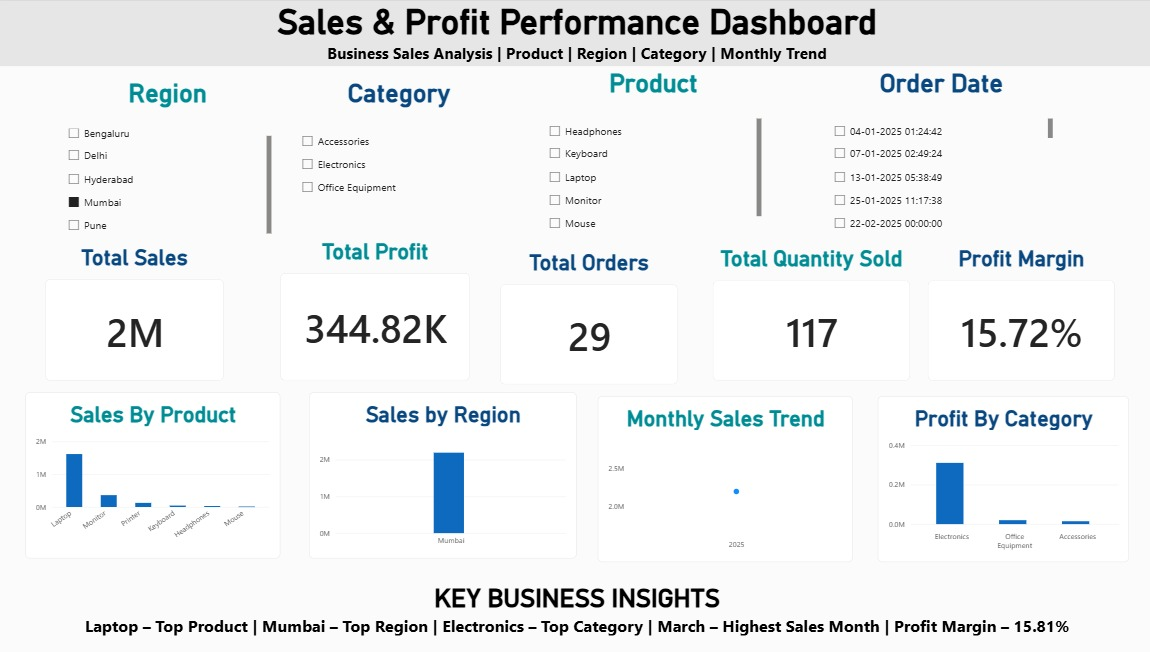

The dashboard page shown, as its layout file describes it:
{"tool":"powerbi","page":{"name":"Page 1","canvas":[1920,1080],"ordinal":0},"visuals":[{"type":"cardVisual","title":"Total Sales ","fields":{"Data":["Sum(sales_data.Sales)"]},"box":[84.4,401.4,294.3,224.4],"z":0},{"type":"cardVisual","title":"Total Profit ","fields":{"Data":["Sum(sales_data.Profit)"]},"box":[471.4,391.1,312.9,234.6],"z":1},{"type":"cardVisual","title":"Total Orders ","fields":{"Data":["CountNonNull(sales_data.Order_ID)"]},"box":[833.6,409.6,292.3,222.3],"z":2},{"type":"cardVisual","title":"Total Quantity Sold ","fields":{"Data":["Sum(sales_data.Quantity)"]},"box":[1183.5,403.4,325.2,222.3],"z":3},{"type":"cardVisual","title":"Profit Margin ","fields":{"Data":["sales_data.Profit Margin"]},"box":[1537.6,403.4,308.7,222.3],"z":4},{"type":"clusteredColumnChart","title":"Sales By Product ","fields":{"Category":["sales_data.Product"],"Y":["Sum(sales_data.Sales)"]},"box":[51.5,644.3,419.9,273.8],"z":5},{"type":"clusteredColumnChart","title":"Sales by Region","fields":{"Category":["sales_data.Region"],"Y":["Sum(sales_data.Sales)"]},"box":[518.7,644.3,440.5,273.8],"z":6},{"type":"lineChart","title":"Monthly Sales Trend ","fields":{"Category":["sales_data.Order_Date.Variation.Date Hierarchy.Year","sales_data.Order_Date.Variation.Date Hierarchy.Month"],"Y":["Sum(sales_data.Sales)"]},"box":[994.2,650.4,419.9,273.8],"z":7},{"type":"clusteredColumnChart","title":"Profit By Category ","fields":{"Category":["sales_data.Category"],"Y":["Sum(sales_data.Profit)"]},"box":[1455.2,650.4,413.7,273.8],"z":8},{"type":"slicer","title":"Region ","fields":{"Values":["sales_data.Region"]},"box":[115.3,127.6,341.7,257.3],"z":9},{"type":"slicer","title":"Category","fields":{"Values":["sales_data.Category"]},"box":[500.2,127.6,333.4,257.3],"z":10},{"type":"slicer","title":"Product","fields":{"Values":["sales_data.Product"]},"box":[907.7,111.1,356.1,273.8],"z":11},{"type":"slicer","title":"Order Date","fields":{"Values":["sales_data.Order_Date"]},"box":[1377,111.1,366.4,271.7],"z":12},{"type":"textbox","title":"Sales & Profit Performance Dashboard","box":[0,0,1920.4,107],"z":13},{"type":"textbox","title":"KEY BUSINESS INSIGHTS","box":[0,959.2,1920.4,107],"z":14}]}

Visuals, with their boxes in screenshot pixels (x1, y1, x2, y2), scaled from the page's 1920x1080 canvas onto the 1150x652 screenshot:
"Total Sales " cardVisual: (51,242,227,378)
"Total Profit " cardVisual: (282,236,470,378)
"Total Orders " cardVisual: (499,247,674,381)
"Total Quantity Sold " cardVisual: (709,244,904,378)
"Profit Margin " cardVisual: (921,244,1106,378)
"Sales By Product " clusteredColumnChart: (31,389,282,554)
"Sales by Region" clusteredColumnChart: (311,389,575,554)
"Monthly Sales Trend " lineChart: (595,393,847,558)
"Profit By Category " clusteredColumnChart: (872,393,1119,558)
"Region " slicer: (69,77,274,232)
"Category" slicer: (300,77,499,232)
"Product" slicer: (544,67,757,232)
"Order Date" slicer: (825,67,1044,231)
"Sales & Profit Performance Dashboard" textbox: (0,0,1149,65)
"KEY BUSINESS INSIGHTS" textbox: (0,579,1149,644)
